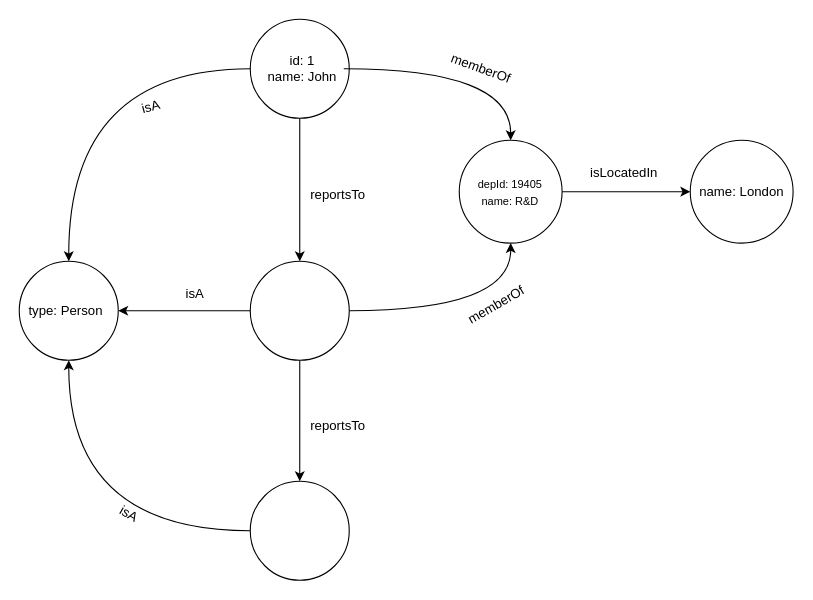
Image size: 813x600. Some labels were removed from this diagram. Each missing label, with the centre of its shape:
"id: 2 name: Michael" belongs at point (299, 310).
"id: 3 name: Jack" belongs at point (299, 530).
